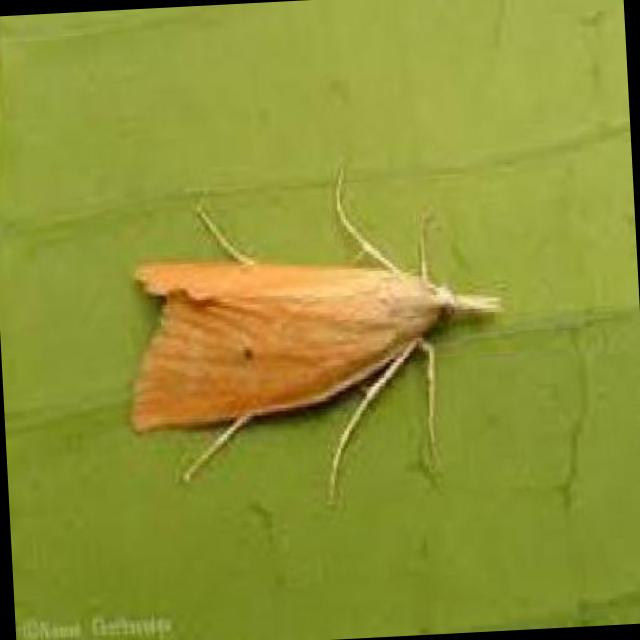stem-borer: (118, 148, 517, 516)
